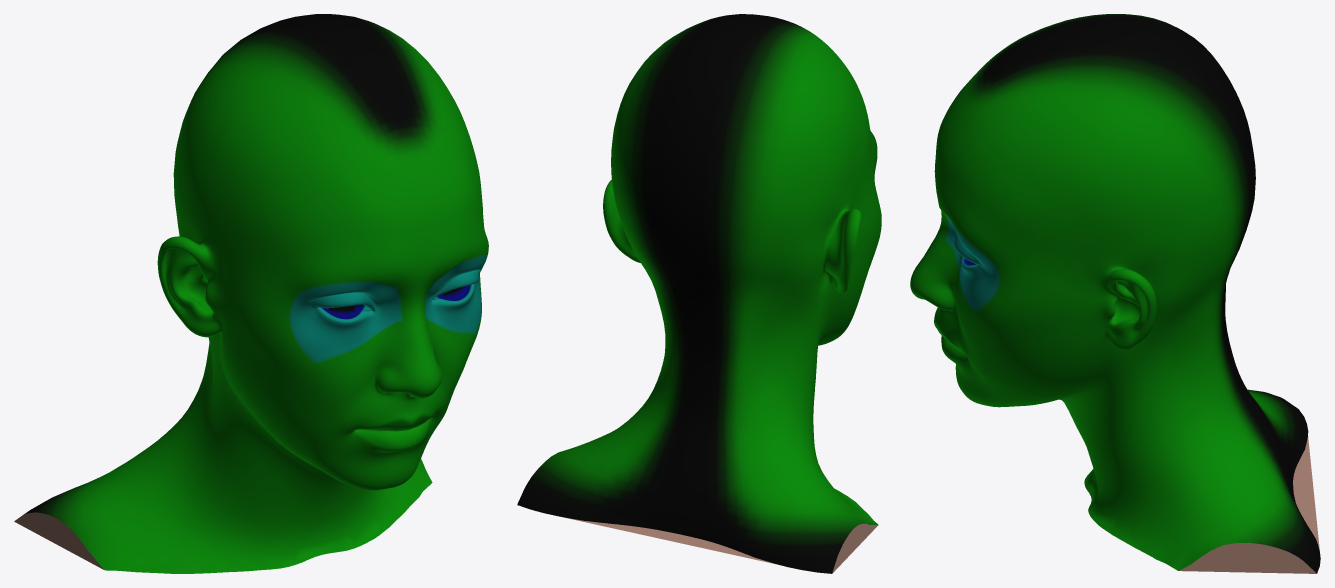
The model's file is head.fbx.
3 views of the same model, side by side, from view 1: azimuth 30°, elevation 25°; view 2: azimuth 150°, elevation 25°; view 3: azimuth 270°, elevation 25° (orthographic). The views are drawn at different scales.
Parts seen in each view (by area): view 1: head-1; view 2: head-1; view 3: head-1.
Boxes of the visible parts, x1=… form: head-1: x1=14, y1=14, x2=488, y2=573; head-1: x1=517, y1=14, x2=881, y2=573; head-1: x1=910, y1=14, x2=1320, y2=573.
Bounding box in the file's own units: 0.3 × 0.2319 × 0.2195.
